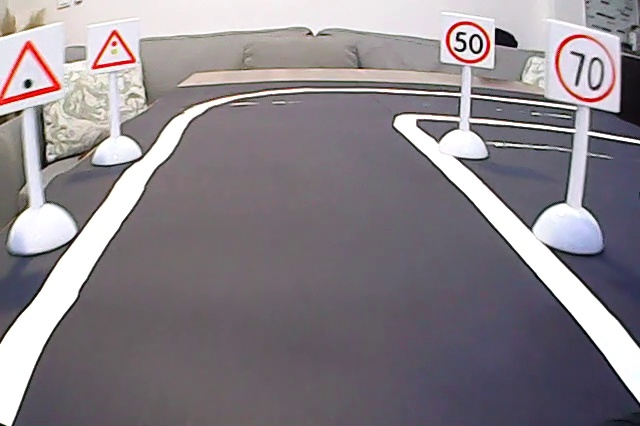green light: (1, 31, 60, 106)
red light: (89, 27, 142, 71)
speed limit 50: (444, 12, 494, 68)
speed limit 70: (551, 24, 618, 109)
